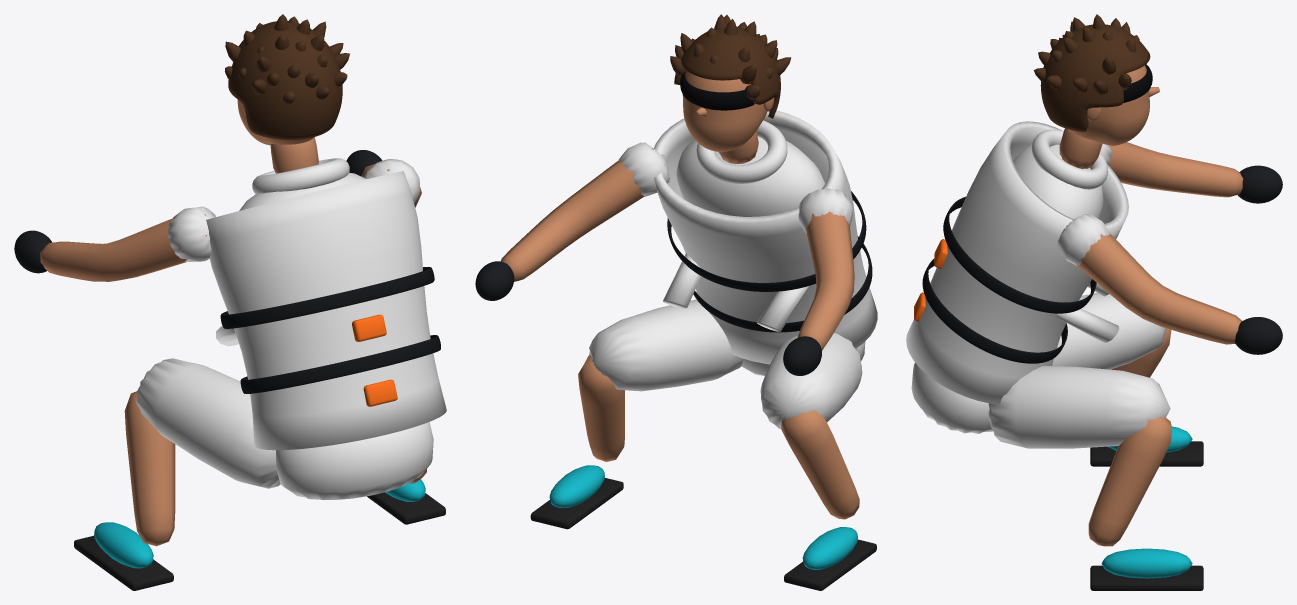
File: Jetski_Rider.fbx
The picture shows the model from 3 angles, left to right: view 1: azimuth 30°, elevation 25°; view 2: azimuth 150°, elevation 25°; view 3: azimuth 270°, elevation 25°; orthographic projection. The views are drawn at different scales.
Visible parts, largest first — view 1: Rider_LifeVest, Rider_Shorts_Leg_L, Rider_Hair_Cap, Rider_Shorts_Seat, Rider_Shin_L, Rider_Arm_L, Rider_Vest_Strap_2, Rider_Hair_Tufts, Rider_Vest_Strap_1, Rider_Vest_Collar, Rider_Sleeve_L, Rider_Shoe_Sole_L (+10 smaller); view 2: Rider_LifeVest, Rider_Shorts_Leg_R, Rider_Torso, Rider_Arm_R, Rider_Shorts_Leg_L, Rider_Arm_L, Rider_Shin_L, Rider_Hair_Cap, Rider_Head, Rider_Shin_R, Rider_Vest_Collar, Rider_Hair_Tufts (+14 smaller); view 3: Rider_LifeVest, Rider_Shorts_Leg_R, Rider_Arm_R, Rider_Hair_Cap, Rider_Shin_R, Rider_Shorts_Leg_L, Rider_Arm_L, Rider_Shorts_Seat, Rider_Torso, Rider_Head, Rider_Hair_Tufts, Rider_Vest_Strap_2 (+12 smaller).
Part boxes in pixels (x1,y1,x2,y2): Rider_LifeVest: (206, 171, 446, 450); Rider_Shorts_Leg_L: (136, 358, 280, 488); Rider_Hair_Cap: (228, 21, 342, 139); Rider_Shorts_Seat: (276, 422, 433, 499); Rider_Shin_L: (124, 391, 175, 546); Rider_Arm_L: (40, 214, 206, 281); Rider_Vest_Strap_2: (220, 267, 434, 328); Rider_Hair_Tufts: (225, 14, 349, 103); Rider_Vest_Strap_1: (240, 335, 440, 393); Rider_Vest_Collar: (252, 158, 349, 193); Rider_Sleeve_L: (168, 206, 215, 261); Rider_Shoe_Sole_L: (74, 535, 173, 590); Rider_LifeVest: (654, 110, 877, 364); Rider_Shorts_Leg_R: (589, 299, 745, 391); Rider_Torso: (676, 136, 825, 216); Rider_Arm_R: (500, 148, 664, 281); Rider_Shorts_Leg_L: (760, 333, 862, 428); Rider_Arm_L: (797, 211, 854, 350); Rider_Shin_L: (781, 410, 859, 519); Rider_Hair_Cap: (674, 26, 780, 118); Rider_Head: (682, 71, 767, 151); Rider_Shin_R: (578, 355, 624, 461); Rider_Vest_Collar: (696, 120, 787, 183); Rider_Hair_Tufts: (670, 14, 791, 99); Rider_LifeVest: (906, 121, 1128, 404); Rider_Shorts_Leg_R: (988, 366, 1170, 448); Rider_Arm_R: (1076, 233, 1241, 344); Rider_Hair_Cap: (1040, 24, 1150, 131); Rider_Shin_R: (1088, 416, 1172, 546); Rider_Shorts_Leg_L: (1052, 293, 1166, 369); Rider_Arm_L: (1108, 142, 1243, 197); Rider_Shorts_Seat: (911, 362, 992, 433); Rider_Torso: (1013, 144, 1103, 219); Rider_Head: (1068, 65, 1149, 145); Rider_Hair_Tufts: (1034, 14, 1139, 95); Rider_Vest_Strap_2: (943, 196, 1096, 313).
Bounding box in the file's own units: 0.8676 × 1.23 × 0.8314.
